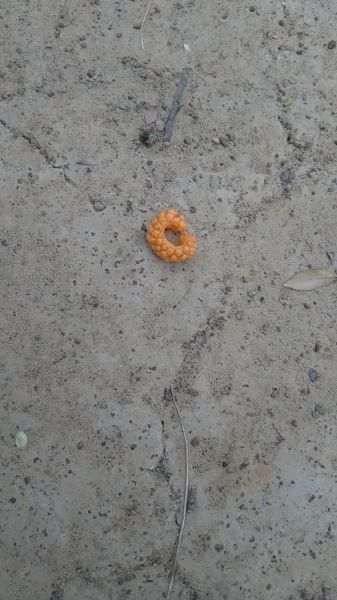eggs: (147, 203, 198, 267)
